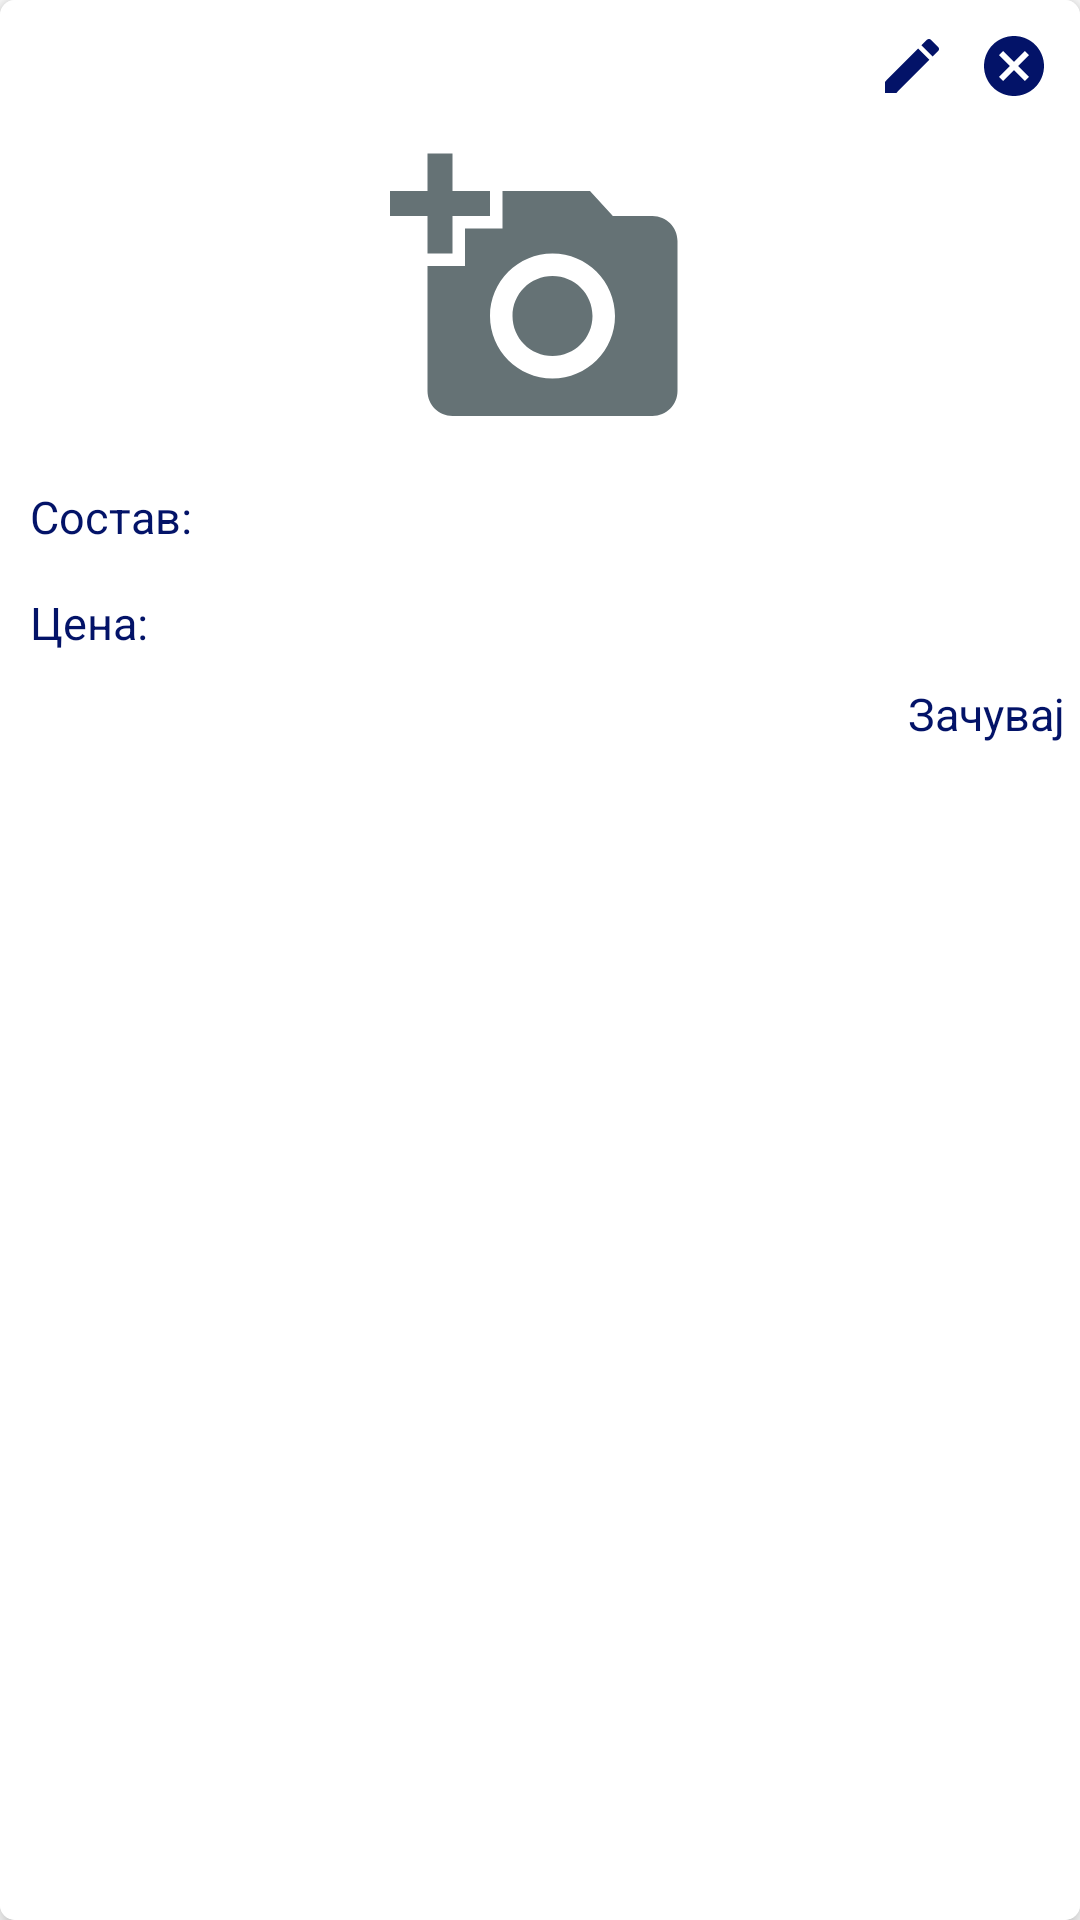

Where icons sit on this 1080px x 1920px app screen, as (x1, y1, x2, y2):
add photo: (390, 153, 678, 416)
